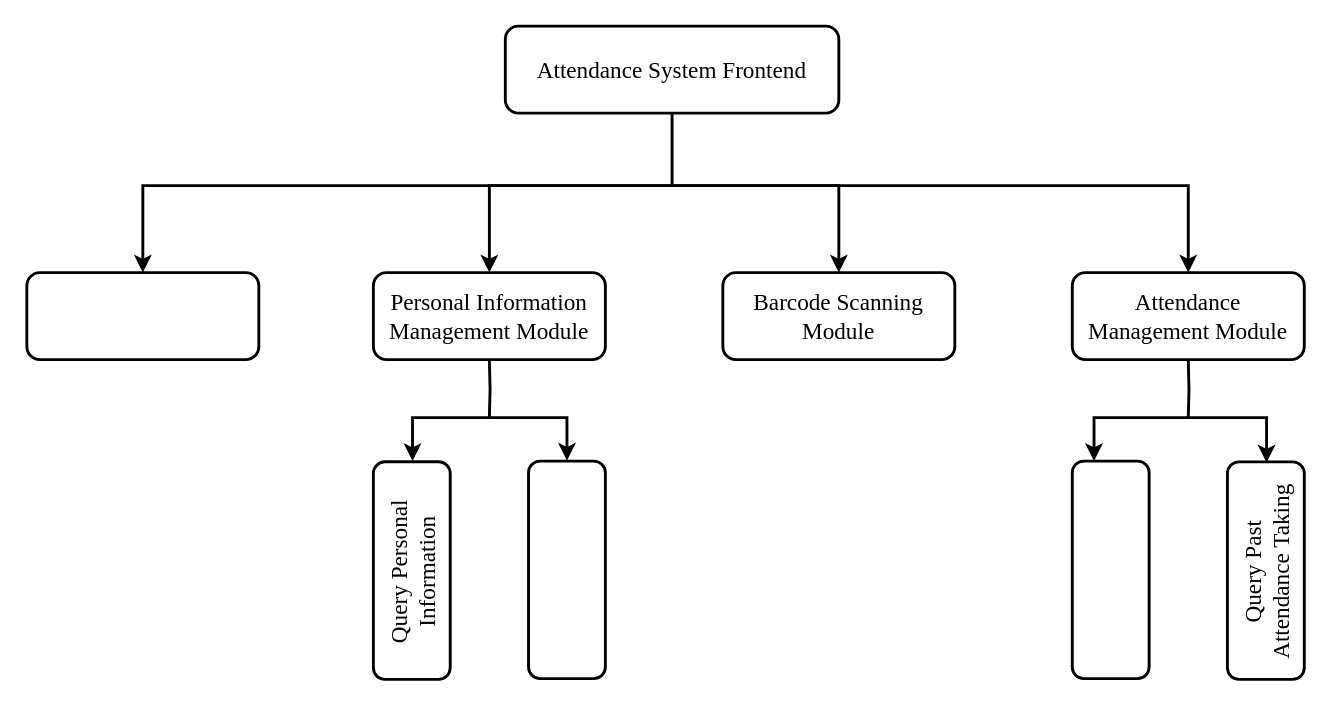
Some shapes in this 1330 by 706 pixel diagram are drawn without their labels. The centre of each missing label's shape, as x and y in pixels:
Login Module: the point at 142,315
Modify Password: the point at 566,569
Query On-going Attendance Taking: the point at 1110,569
